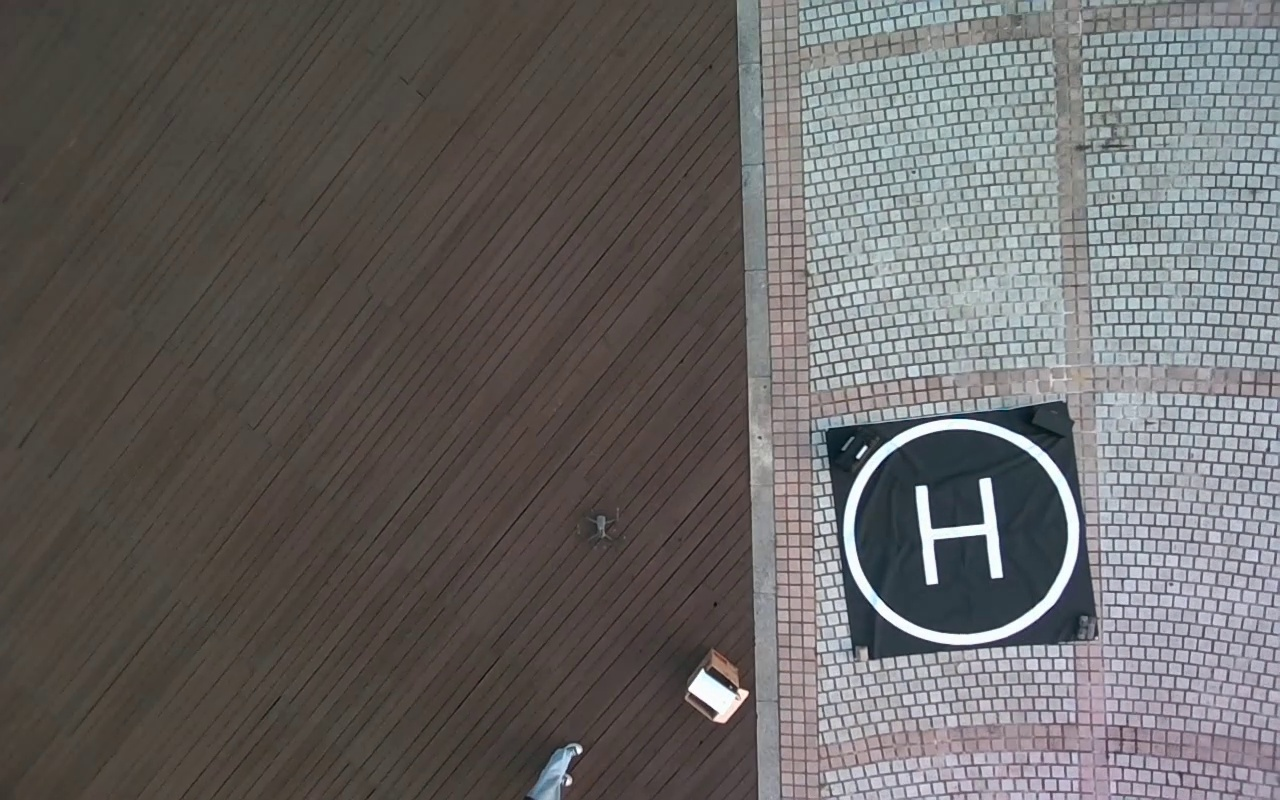H: (915, 477, 1005, 584)
heliport: (844, 417, 1082, 643)
